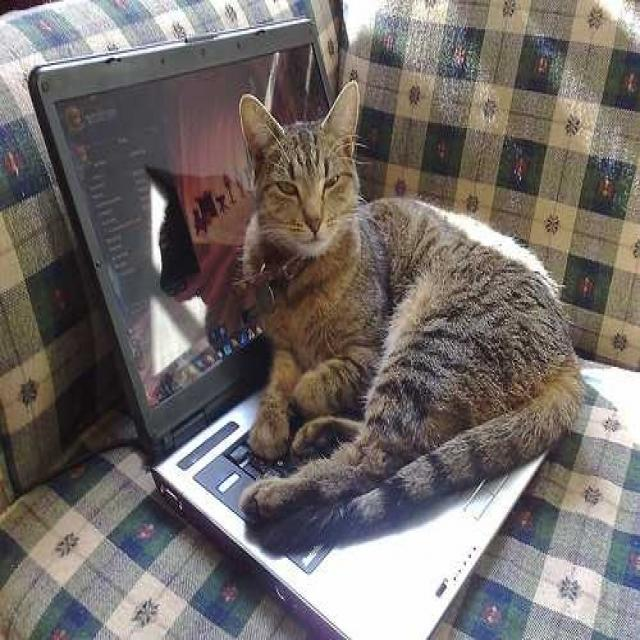laptop: (58, 59, 550, 626)
